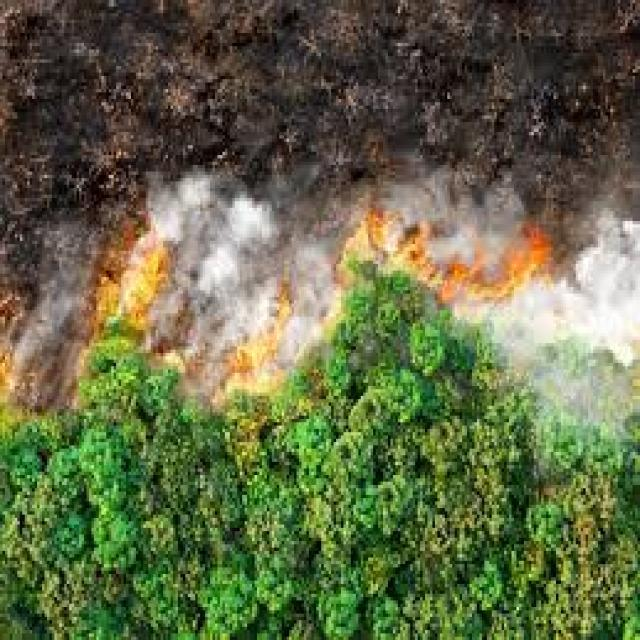Fire: (333, 160, 558, 322)
Smoke: (106, 165, 640, 352), (0, 172, 331, 338), (529, 162, 640, 386)
